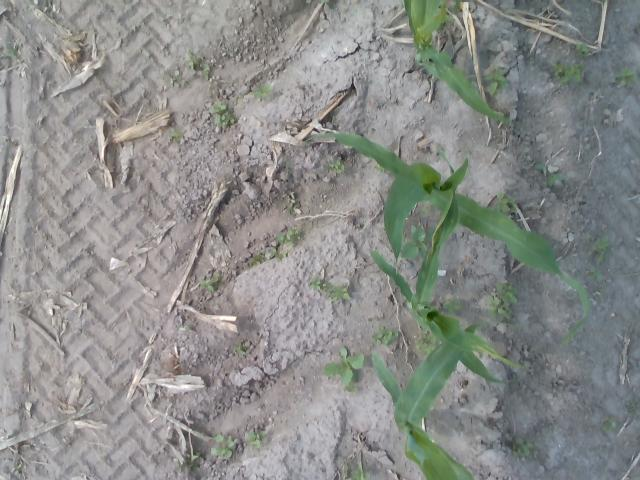Maize: (306, 134, 590, 345), (368, 143, 528, 384), (371, 319, 525, 480), (403, 0, 513, 125)
Weeds: (322, 346, 363, 392), (400, 224, 437, 259), (486, 282, 518, 319), (550, 60, 585, 85), (184, 50, 212, 80), (483, 65, 507, 96), (584, 234, 610, 262), (209, 432, 235, 458), (173, 451, 201, 474), (414, 330, 438, 356), (370, 326, 399, 346), (512, 437, 538, 458), (494, 192, 518, 214), (278, 226, 302, 247), (614, 66, 638, 86), (245, 430, 267, 450), (165, 70, 188, 88), (326, 285, 351, 301), (199, 274, 221, 292), (442, 298, 462, 316), (213, 110, 235, 126), (287, 191, 300, 216), (352, 463, 371, 480), (250, 84, 272, 98), (265, 247, 287, 261), (327, 158, 346, 174), (547, 172, 566, 186), (232, 340, 248, 356), (208, 102, 228, 114), (0, 47, 18, 60), (308, 278, 326, 291), (574, 42, 588, 58), (169, 128, 185, 141), (248, 253, 264, 266), (602, 417, 616, 430), (588, 268, 602, 280), (373, 163, 388, 174), (12, 462, 22, 477), (342, 458, 349, 477), (420, 204, 430, 217), (533, 162, 544, 170), (320, 0, 330, 3), (305, 0, 312, 4)
